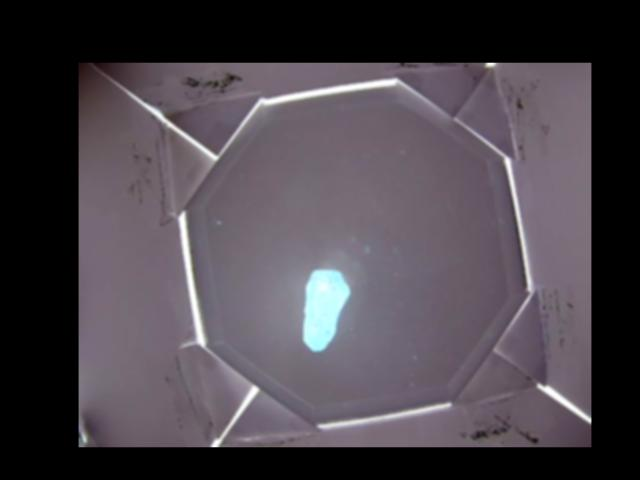Brisk: (304, 268, 347, 351)
